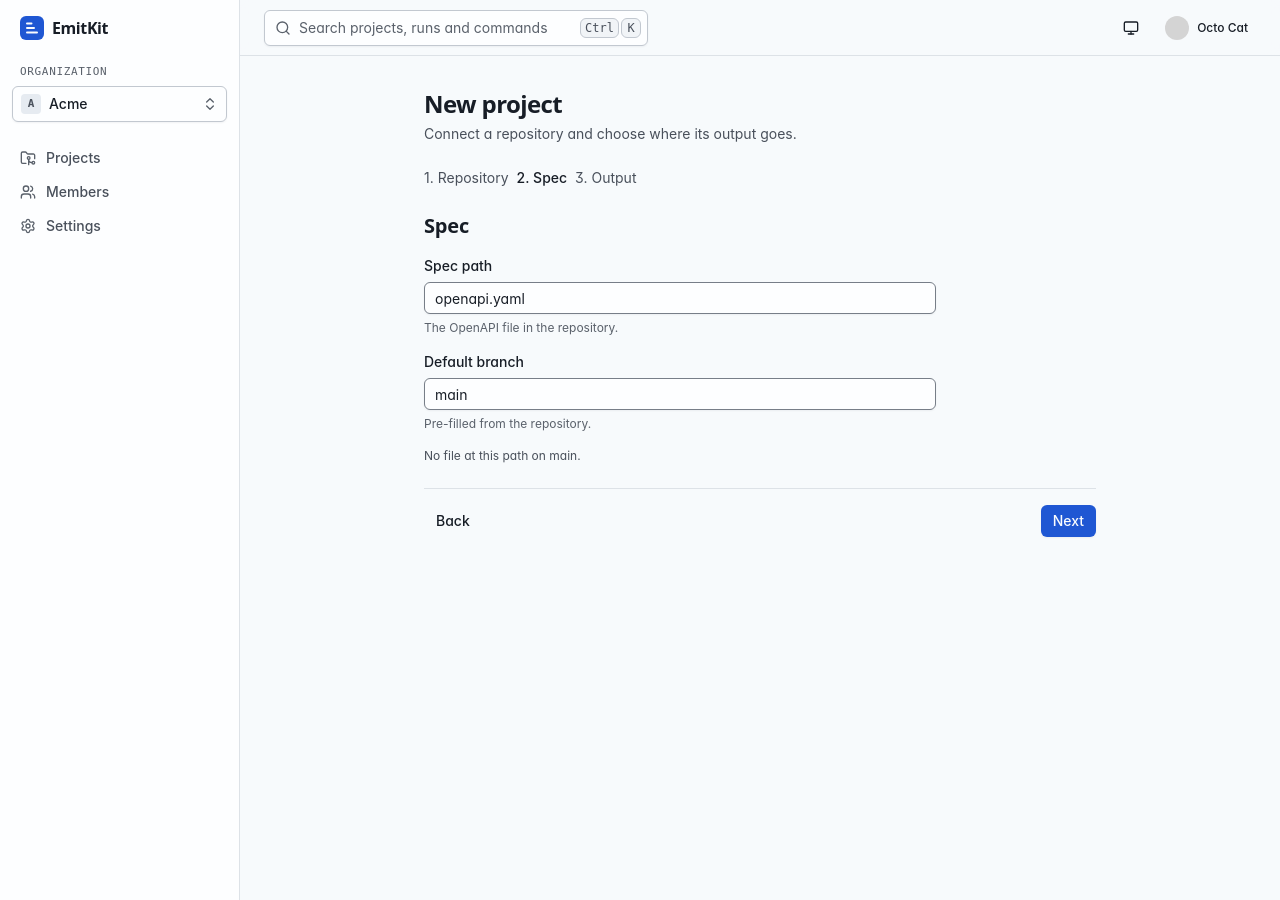
Test: spec-check result shows title and version
Replace the text in the field labelled "Spec path" with "api/billing.yaml" at (680, 298), box [424,282,936,314]
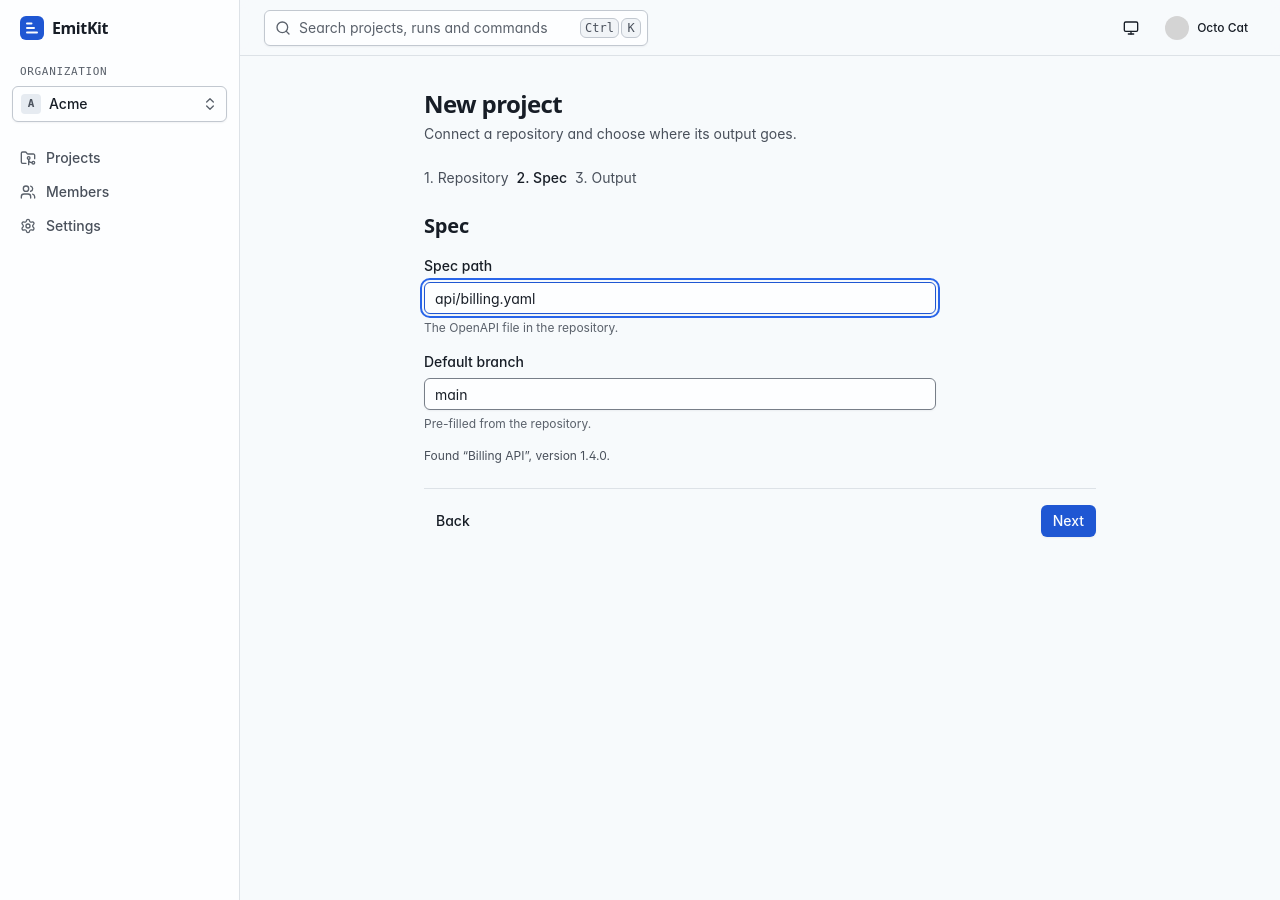
Check: the text "Found “Billing API”, version 1.4.0." is shown, box [424,448,610,463]
